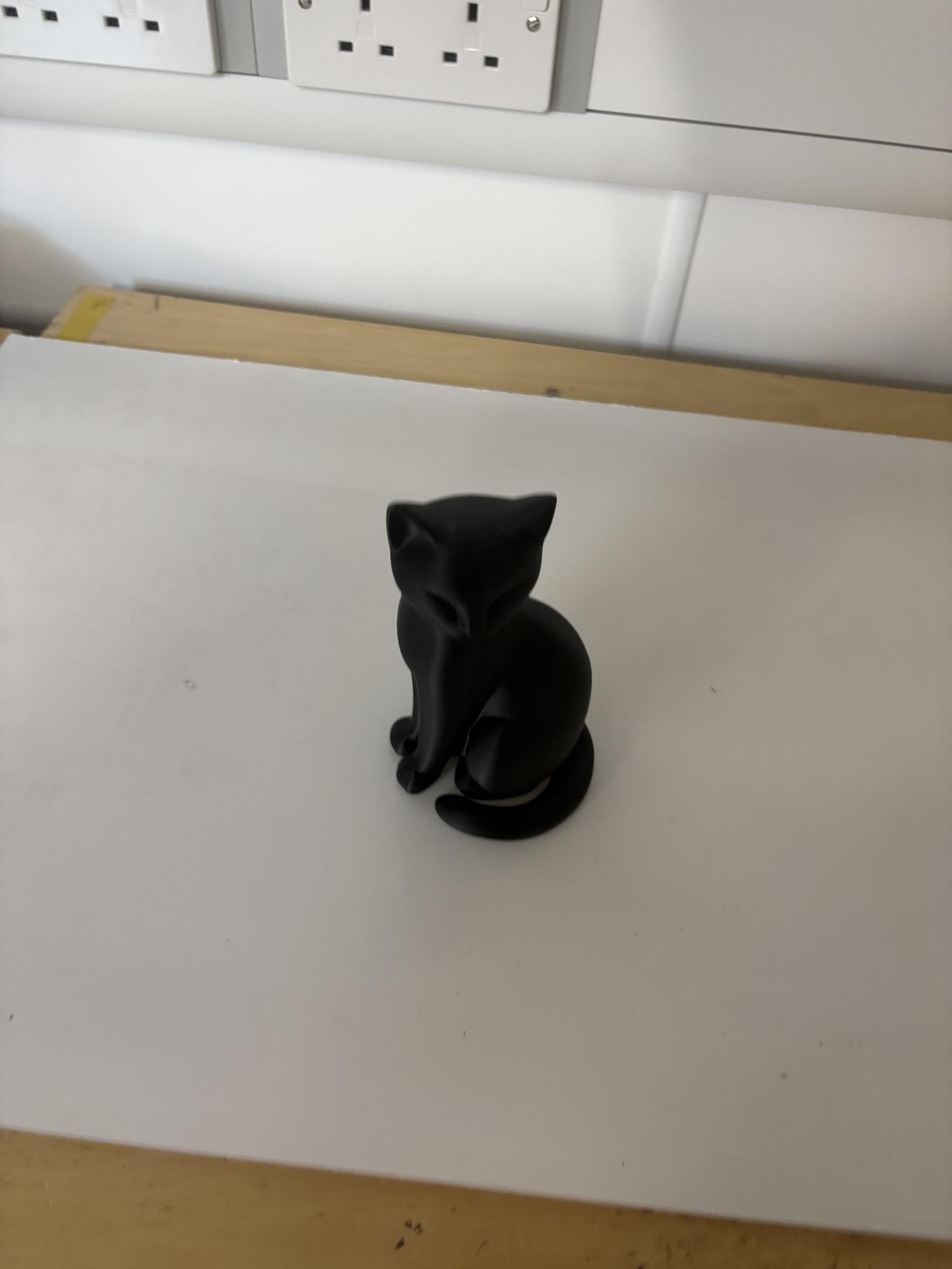cat: (387, 494, 593, 838)
